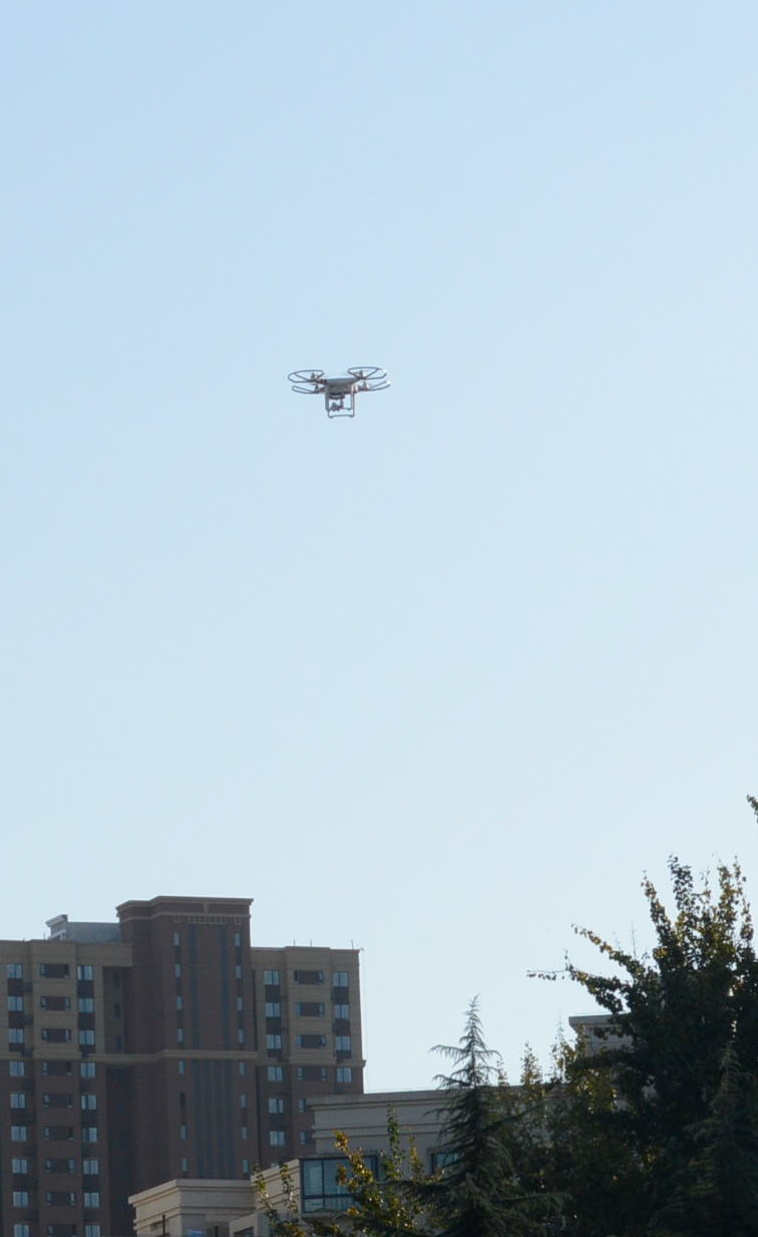DJI: (288, 362, 395, 424)
